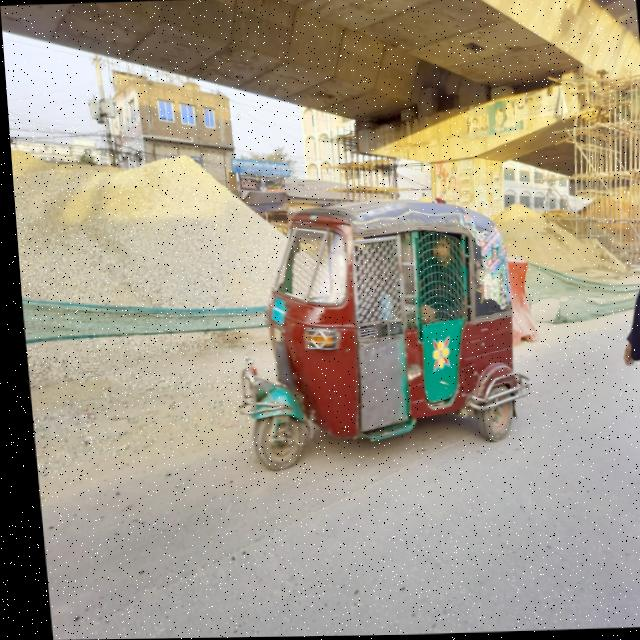cng: (205, 178, 528, 539)
